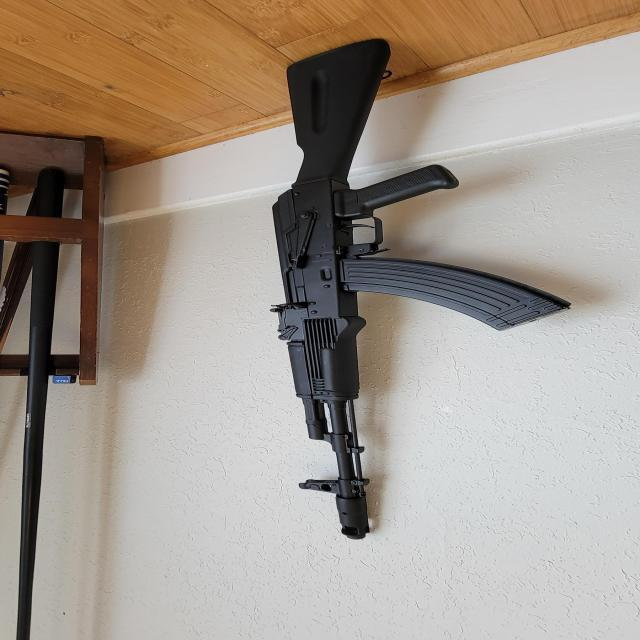weapon: (262, 35, 574, 541)
